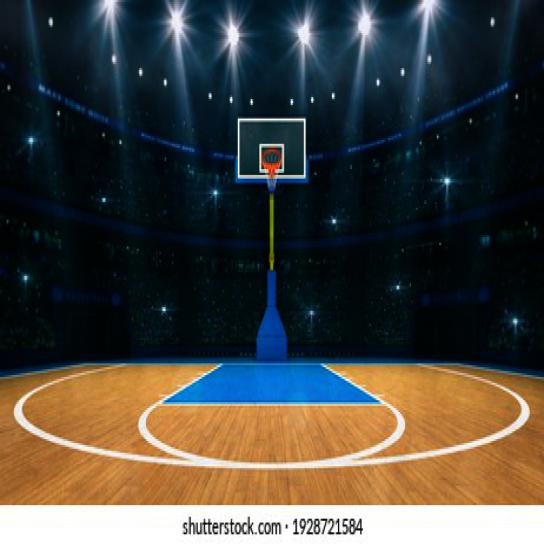basketball-hoop: (262, 146, 282, 190)
